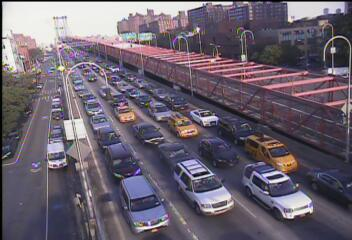neg: (35, 42, 46, 57)
